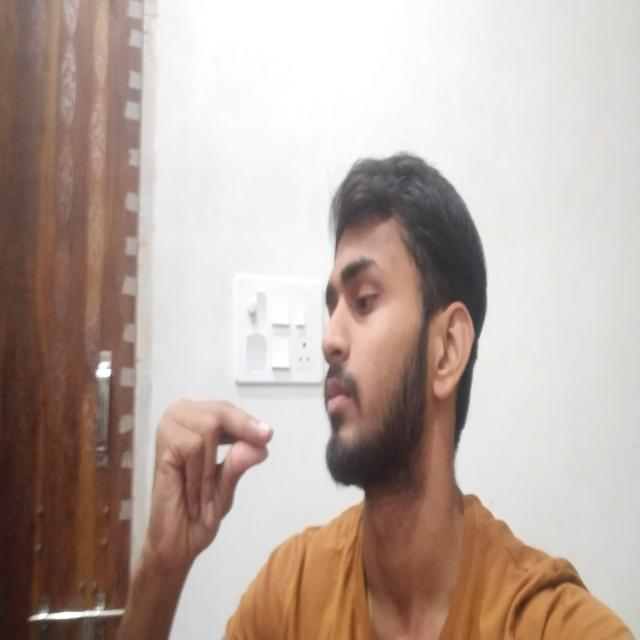No: (120, 324, 294, 599)
